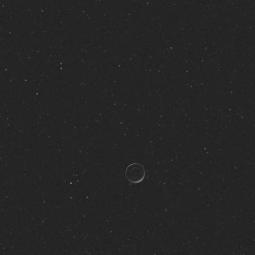debris: (123, 162, 150, 186)
